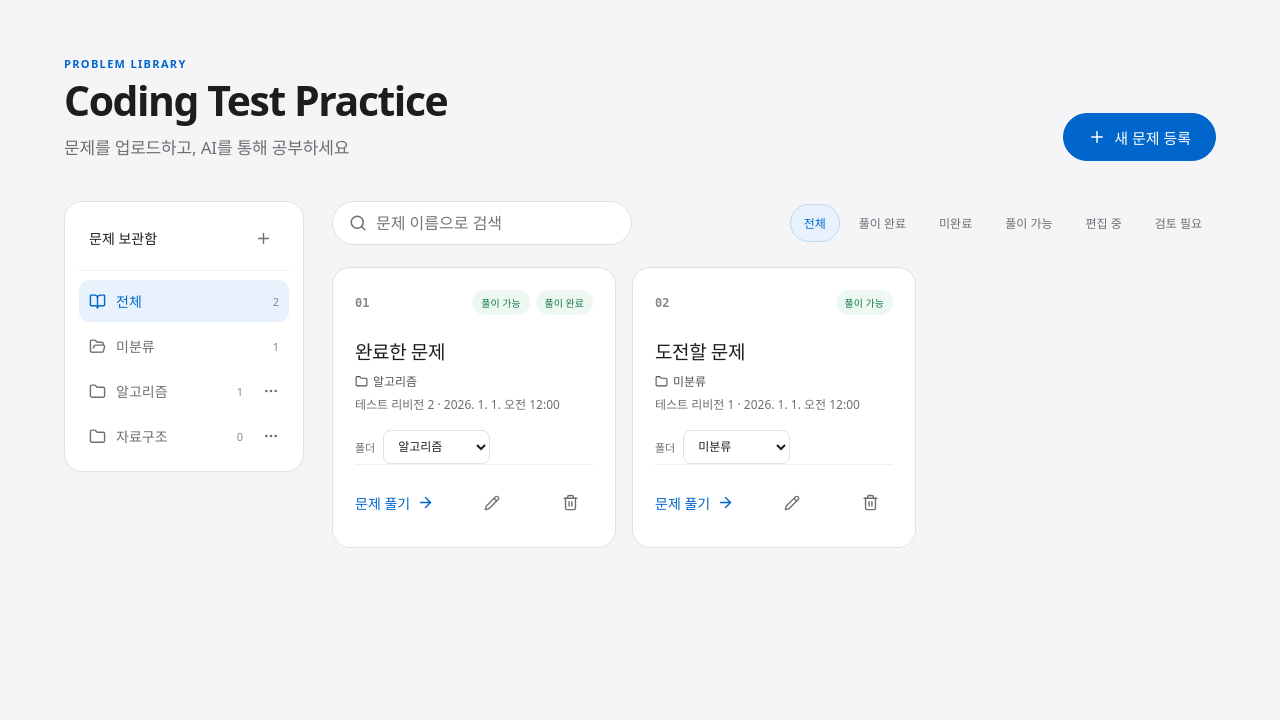
Test: LibraryPage folders › keeps a folder name editable when creation fails
Check: the heading "완료한 문제" is shown, box [355,339,445,365]
Click the button named "폴더 추가" at coordinates (263, 238), box [241,216,285,260]
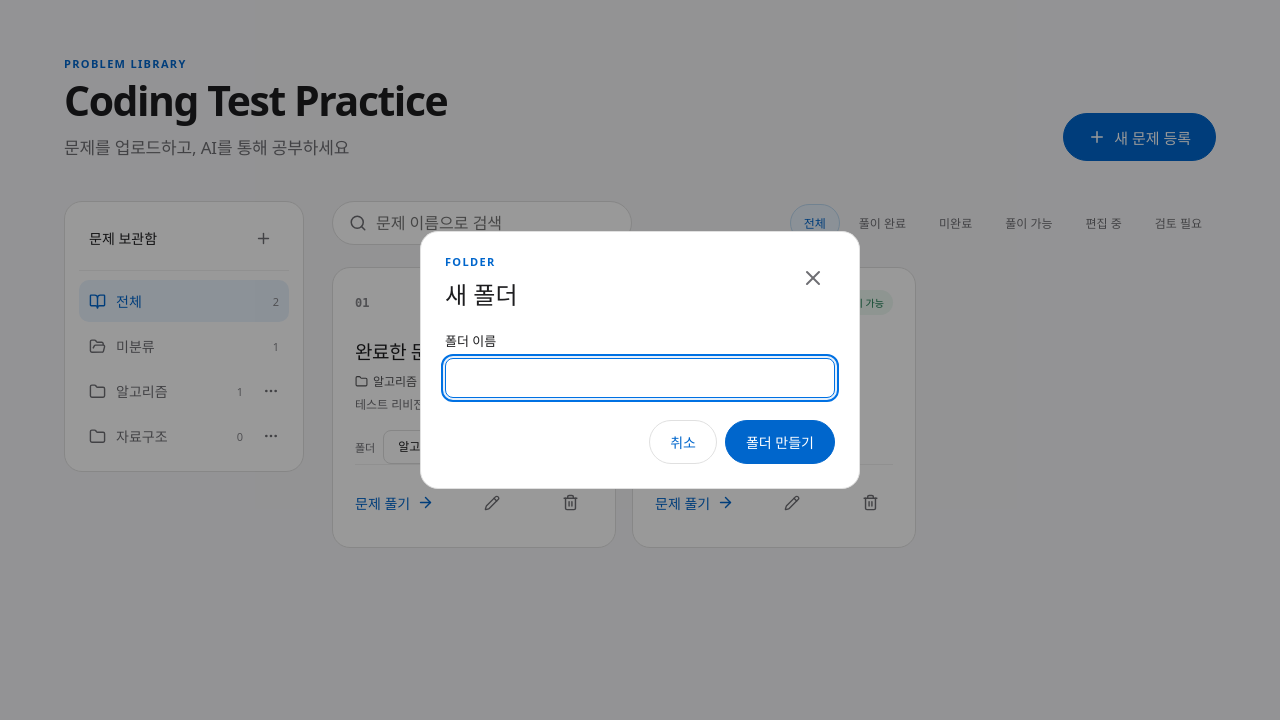
Type "그리디" into the field labelled "폴더 이름" at coordinates (640, 378), box [445,358,835,398]
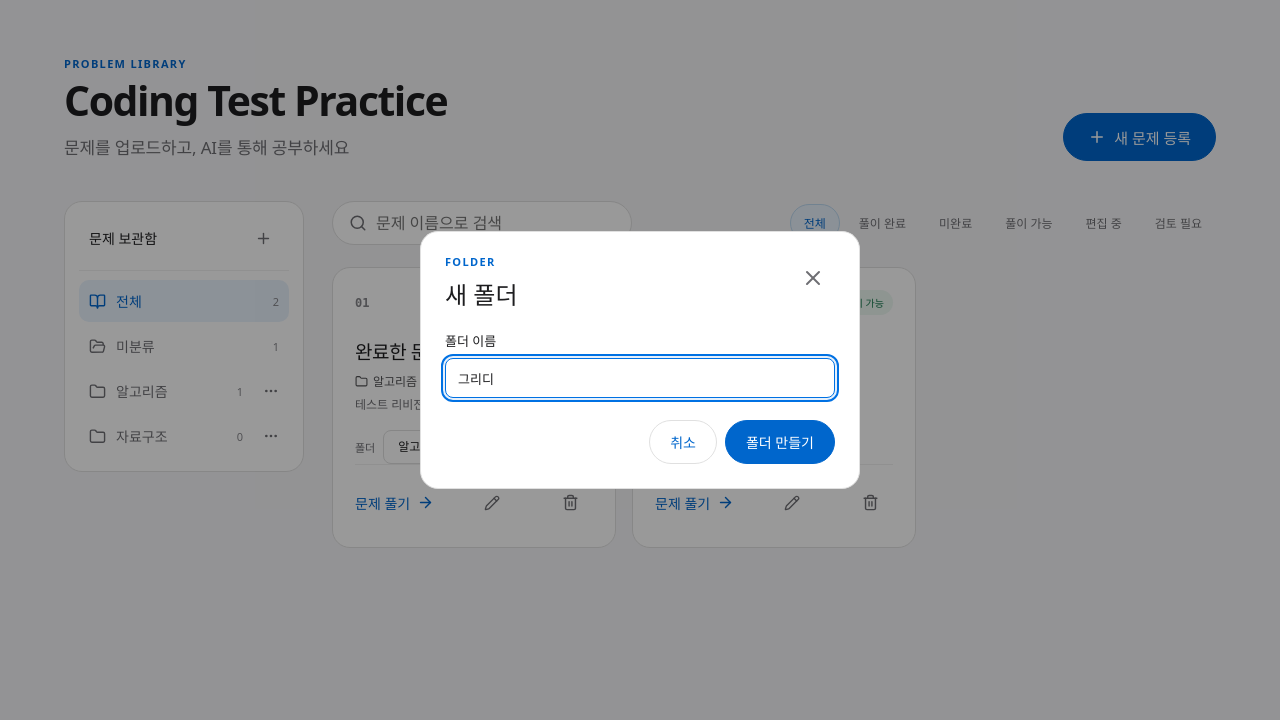
Click the button "폴더 만들기" at coordinates (780, 442), box [725,420,835,464]
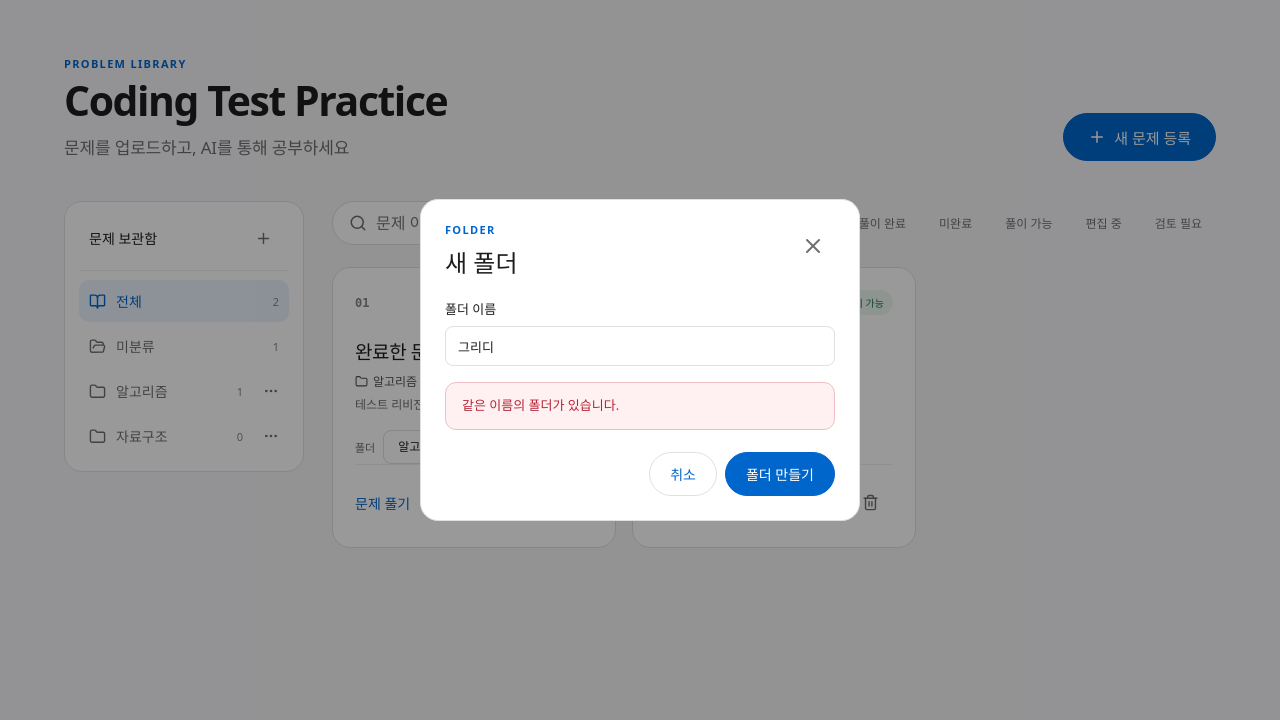
Check: the text "같은 이름의 폴더가 있습니다." is shown, box [445,382,835,430]
